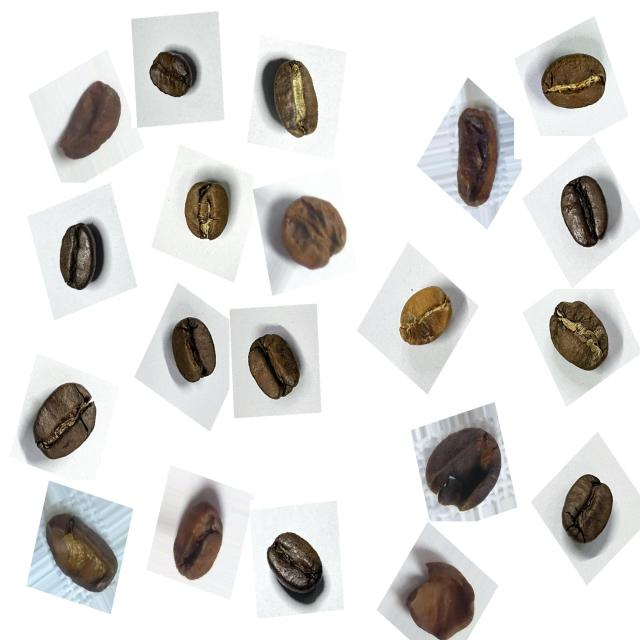bad: (419, 412, 512, 525), (438, 94, 512, 216), (38, 500, 122, 606), (163, 482, 237, 593), (273, 184, 358, 280), (51, 70, 128, 173), (396, 551, 484, 640)
dark: (25, 368, 110, 470), (547, 162, 621, 260), (258, 517, 334, 608), (47, 214, 114, 304), (139, 40, 203, 114)
light: (391, 274, 461, 362)
medium: (255, 49, 336, 154), (536, 291, 619, 384), (533, 42, 615, 126), (237, 323, 311, 413), (552, 466, 626, 556), (160, 309, 228, 396), (173, 171, 241, 254)
